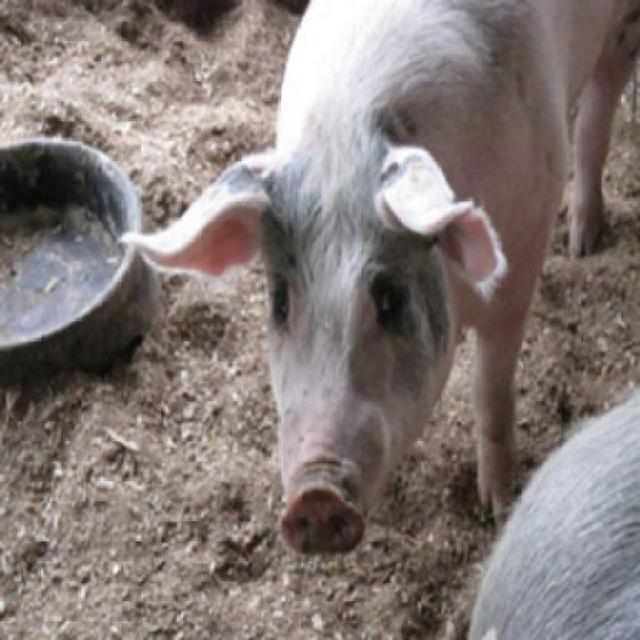Boar: (120, 0, 640, 558), (466, 396, 640, 638)
